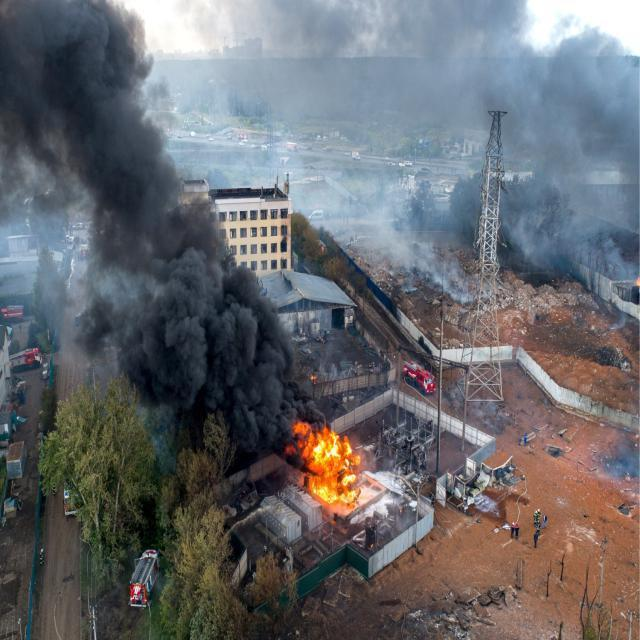Fire: (286, 422, 362, 505)
Smoke: (221, 1, 640, 188), (0, 0, 218, 230), (75, 232, 324, 417), (329, 188, 478, 304), (503, 189, 640, 280), (228, 418, 284, 454), (602, 435, 640, 478), (472, 401, 504, 426)
